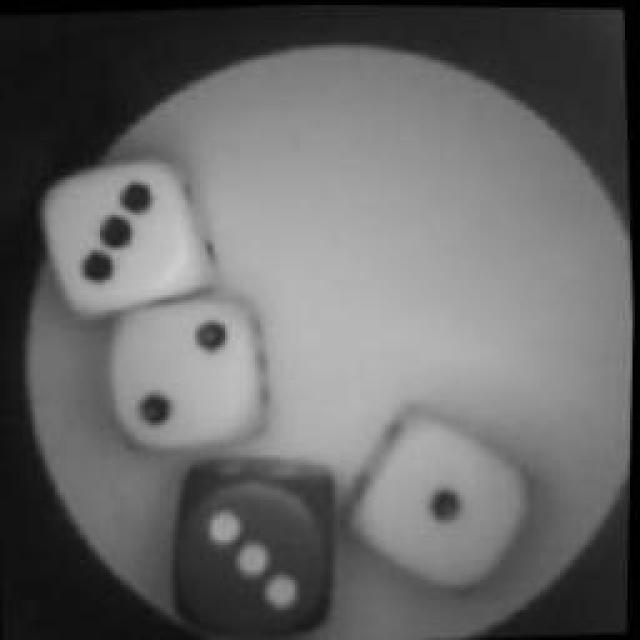dice_1: (327, 394, 545, 596)
dice_2: (105, 291, 285, 454)
dice_3: (164, 442, 348, 640), (28, 148, 222, 318)
